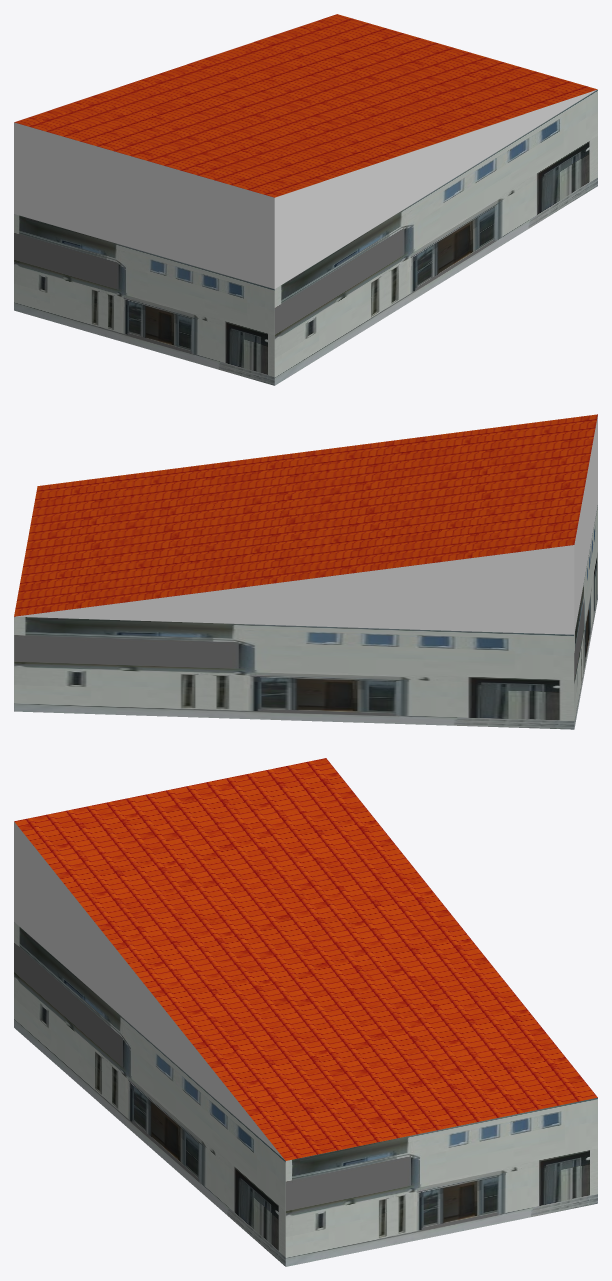
3 renders of one model, top to bottom at view 1: azimuth 30°, elevation 25°; view 2: azimuth 150°, elevation 25°; view 3: azimuth 270°, elevation 25°, orthographic. The views are drawn at different scales.
Visible parts, largest first — view 1: CityEngineMaterial_11_m, CityEngineMaterial_12_m, CityEngineMaterial_3_m; view 2: CityEngineMaterial_12_m, CityEngineMaterial_11_m, CityEngineMaterial_3_m; view 3: CityEngineMaterial_12_m, CityEngineMaterial_11_m, CityEngineMaterial_3_m.
Boxes of the visible parts, bbox=[...] form: CityEngineMaterial_11_m: bbox=[14, 89, 597, 385]; CityEngineMaterial_12_m: bbox=[14, 14, 597, 197]; CityEngineMaterial_3_m: bbox=[14, 89, 597, 289]; CityEngineMaterial_12_m: bbox=[14, 414, 597, 616]; CityEngineMaterial_11_m: bbox=[14, 505, 597, 729]; CityEngineMaterial_3_m: bbox=[16, 415, 597, 634]; CityEngineMaterial_12_m: bbox=[14, 758, 597, 1160]; CityEngineMaterial_11_m: bbox=[14, 922, 597, 1266]; CityEngineMaterial_3_m: bbox=[14, 822, 284, 1159].
Size of the model in its own units: 32.2 by 10.24 by 26.26.
